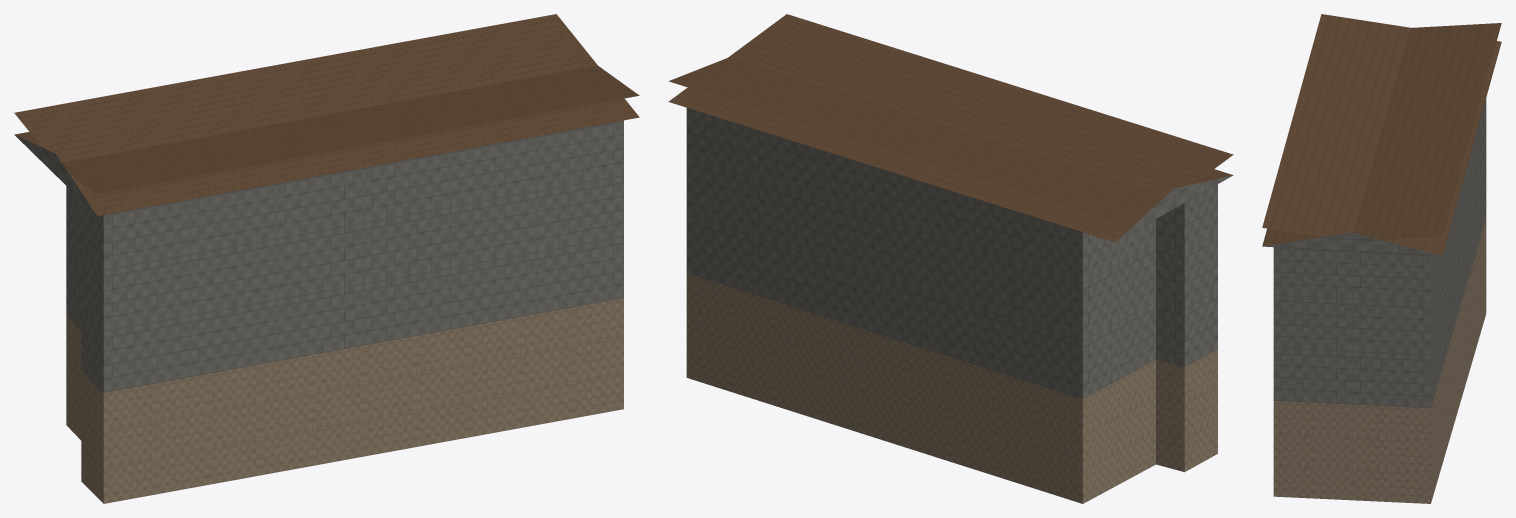
Rendered from bld_c37_35_296.gltf.
3 views of the same model, side by side, from view 1: azimuth 30°, elevation 25°; view 2: azimuth 150°, elevation 25°; view 3: azimuth 270°, elevation 25° (orthographic). The views are drawn at different scales.
Parts seen in each view (by area): view 1: bld_c37_35_296; view 2: bld_c37_35_296; view 3: bld_c37_35_296.
Part boxes in pixels (box(x1,y1,x2,y2)): bld_c37_35_296: box(14, 14, 639, 503); bld_c37_35_296: box(668, 14, 1233, 503); bld_c37_35_296: box(1262, 14, 1501, 503).
Bounding box in the file's own units: 25.4 × 14.5 × 11.55.
Materials: 4 (4 with a texture image).
